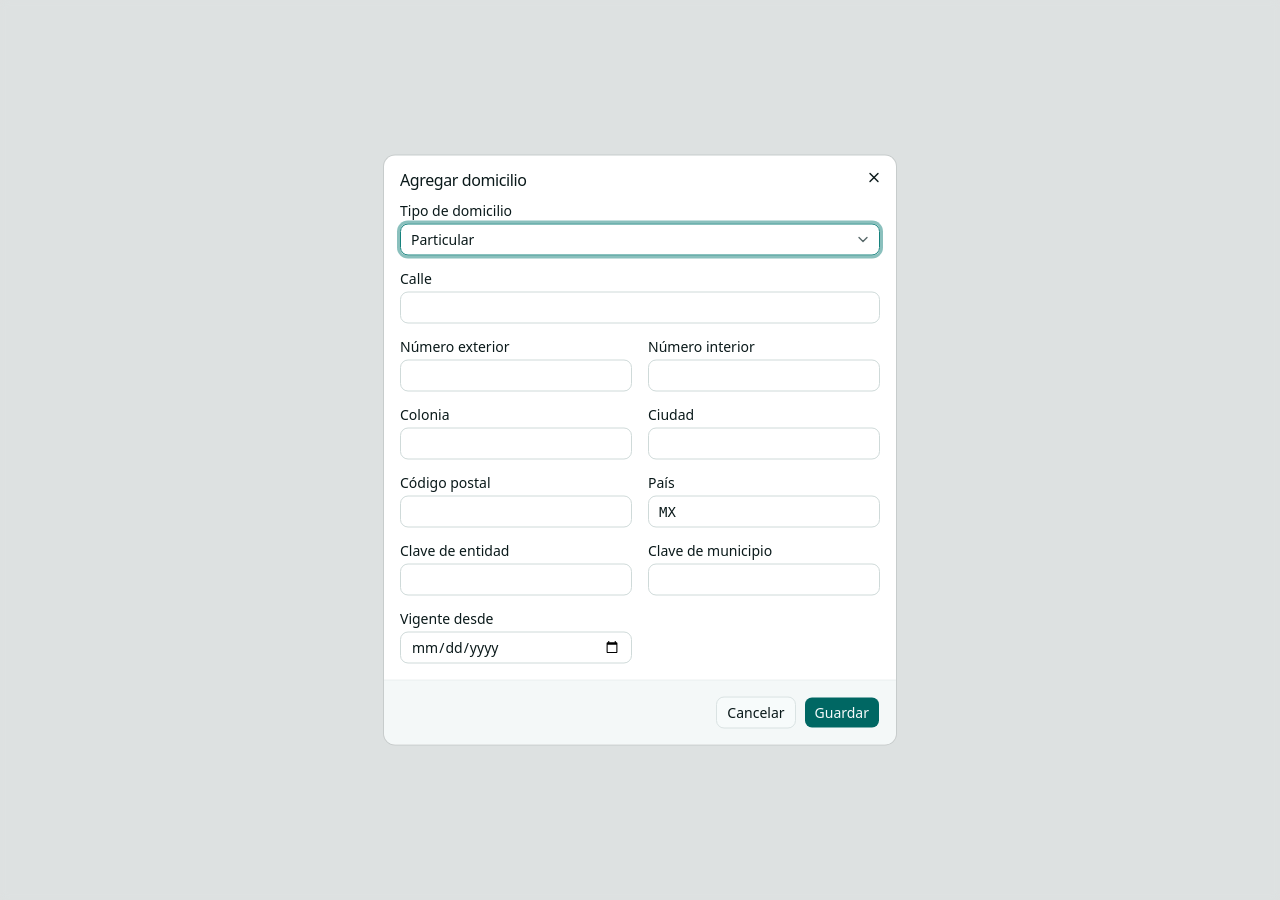
AddAddressDialog › shows a 422 without field errors as a whole, and stays open
Click the dropdown named "Tipo de domicilio". click: (443, 239)
box: [400,224,880,256]
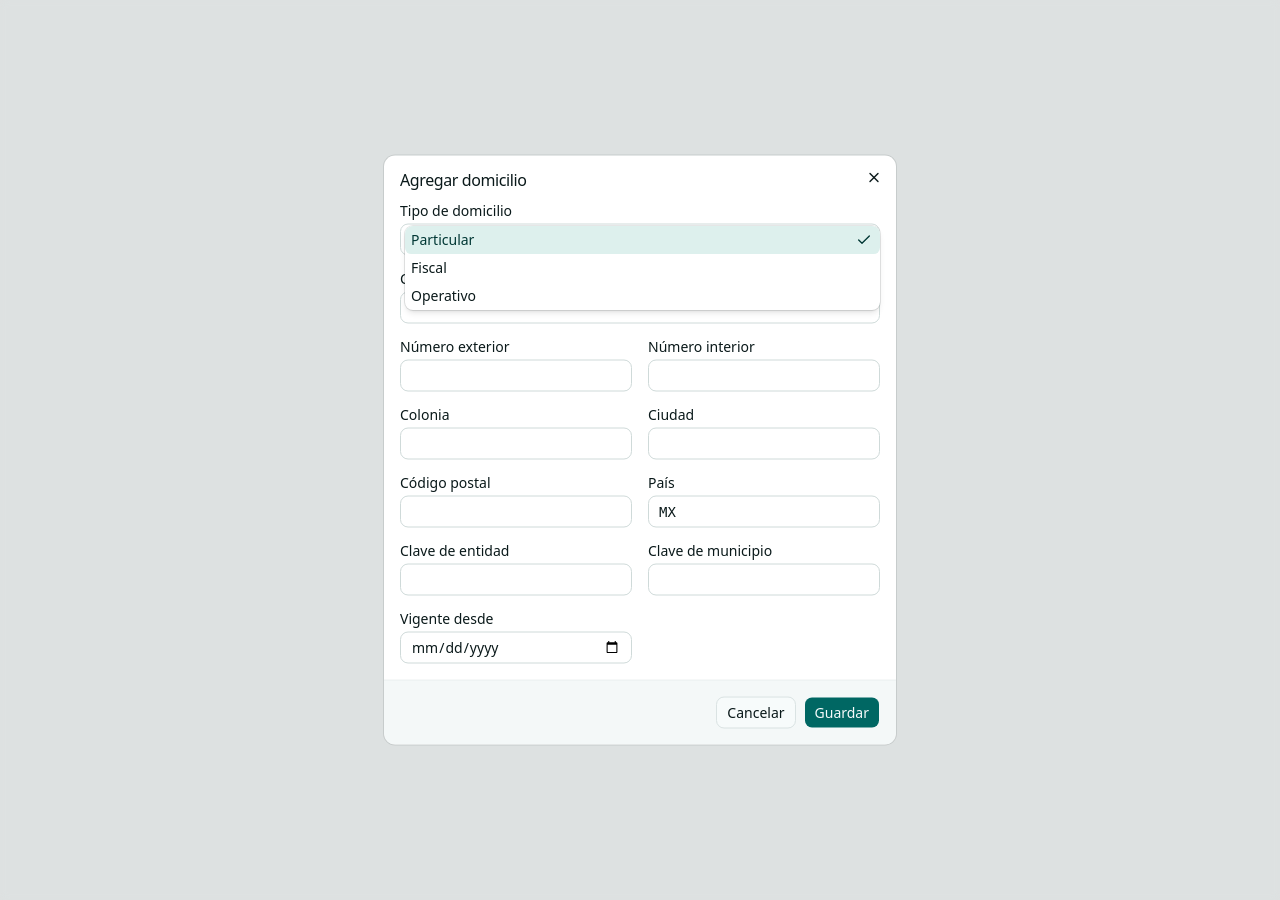
Click the option "Fiscal". click: (429, 267)
box: [411,258,447,276]
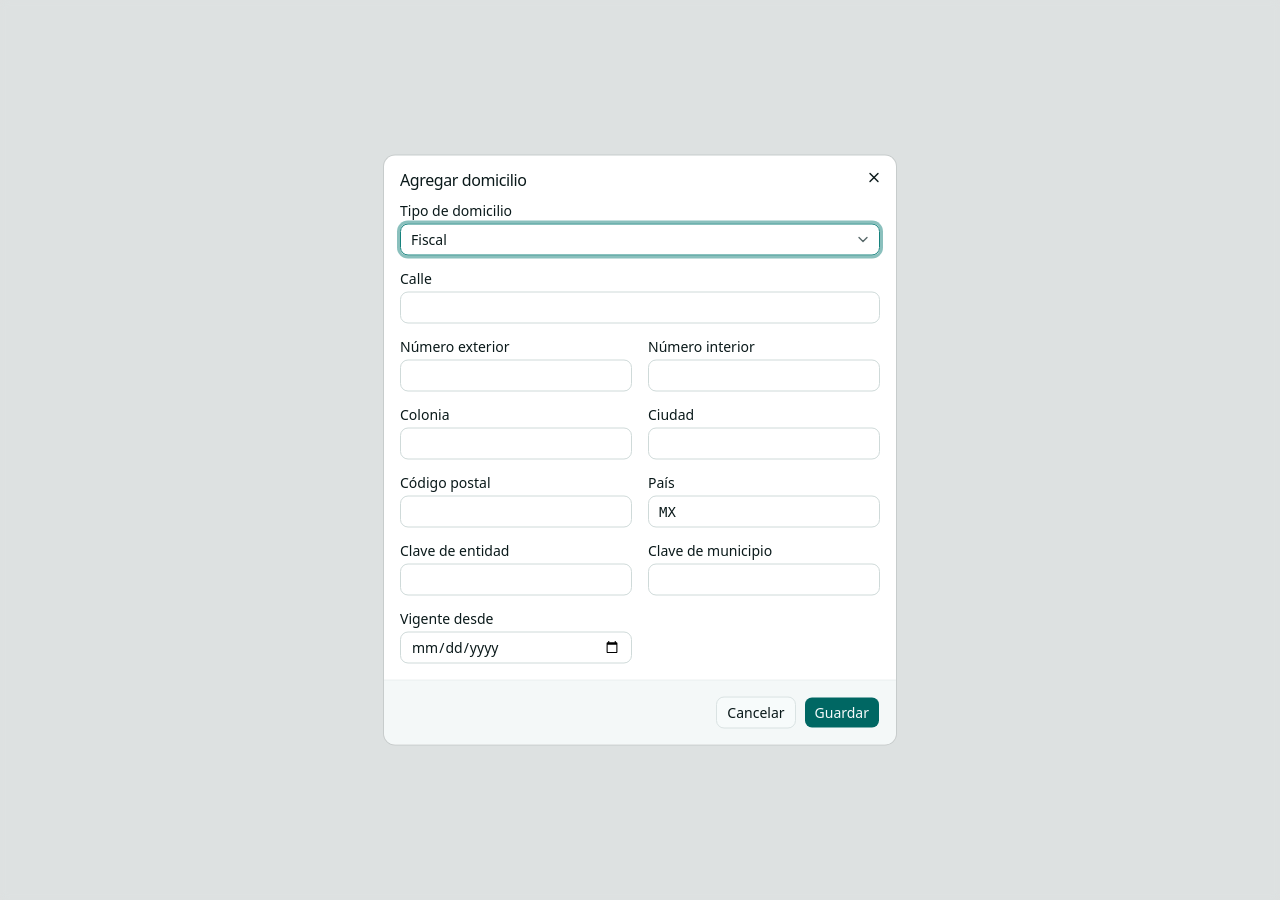
Type "Av. Reforma" into the field labelled "Calle". click: (640, 308)
box: [400,292,880,324]
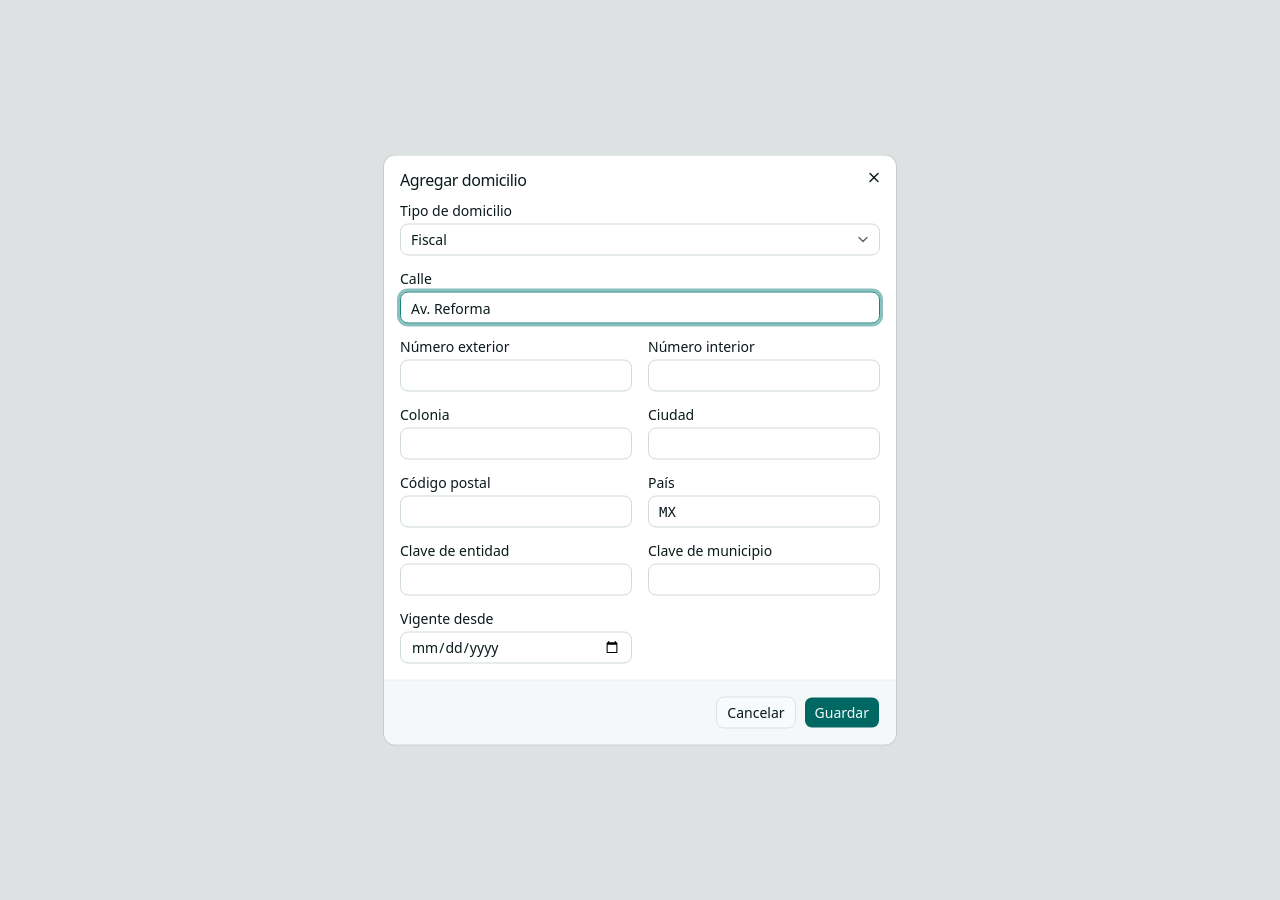
Type "06600" into the field labelled "Código postal". click: (516, 512)
box: [400,496,632,528]
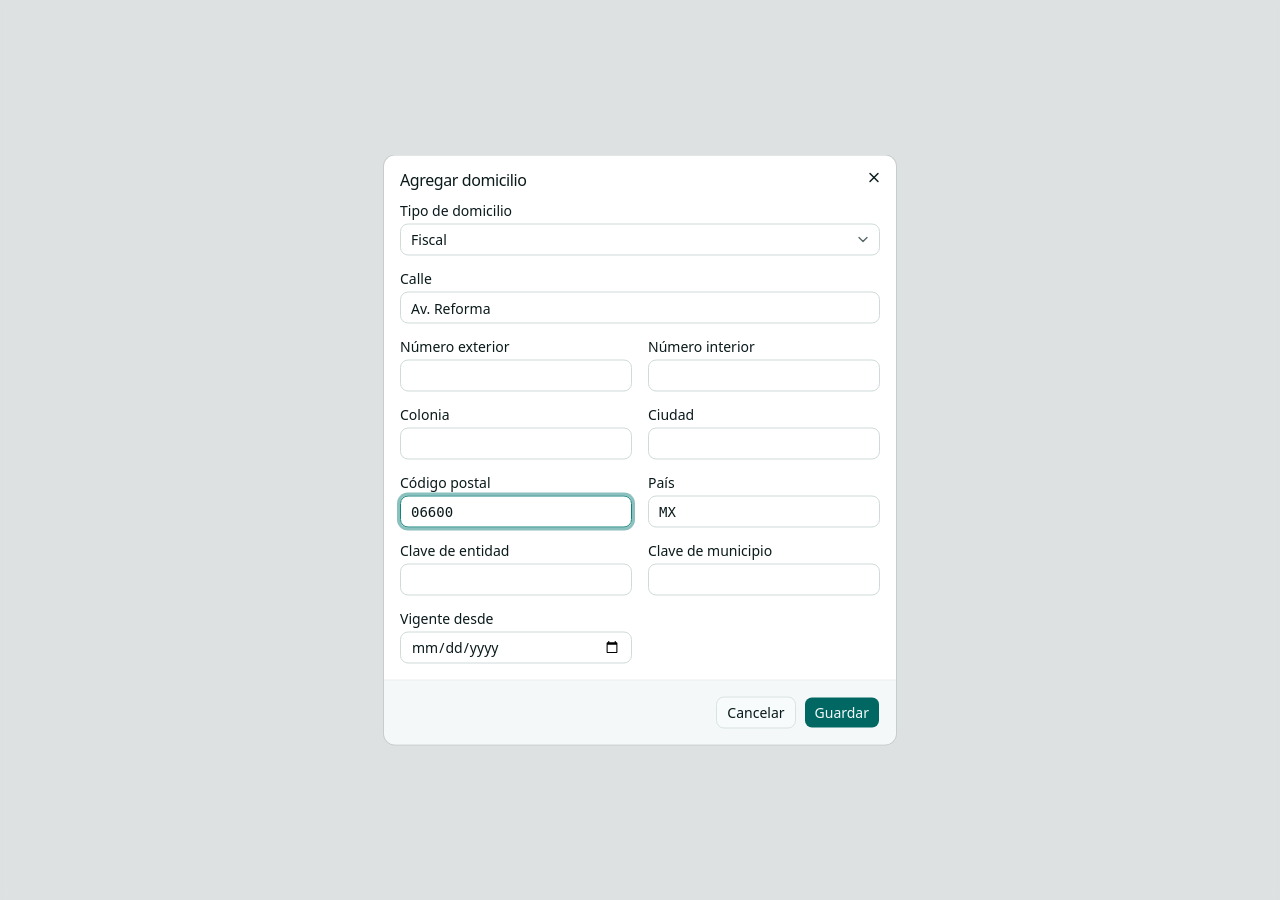
Click the button "Guardar". click: (842, 712)
box: [804,696,880,728]
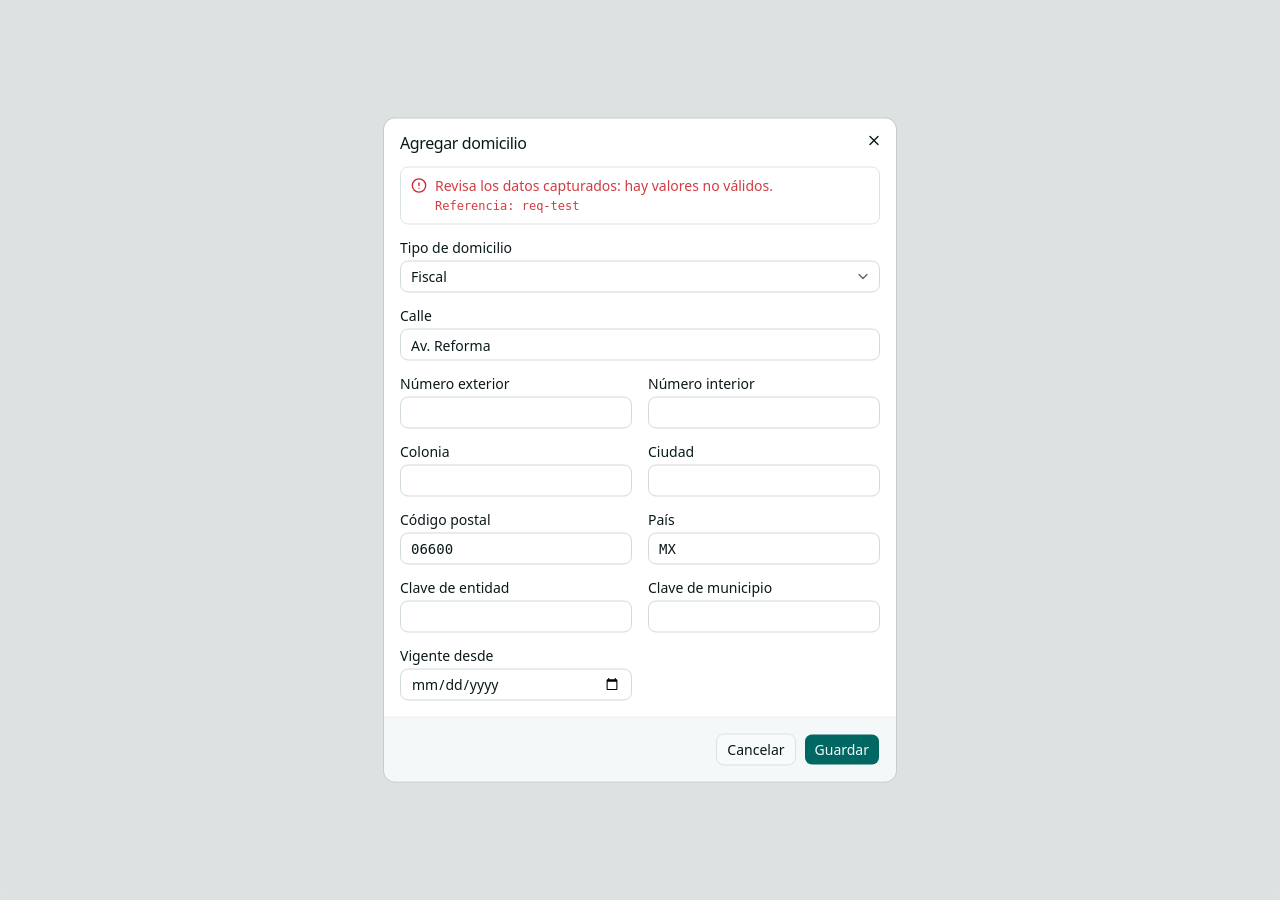
Expected: the message shows "Revisa los datos capturados: hay valores no válidos.", [435,176,773,194]
